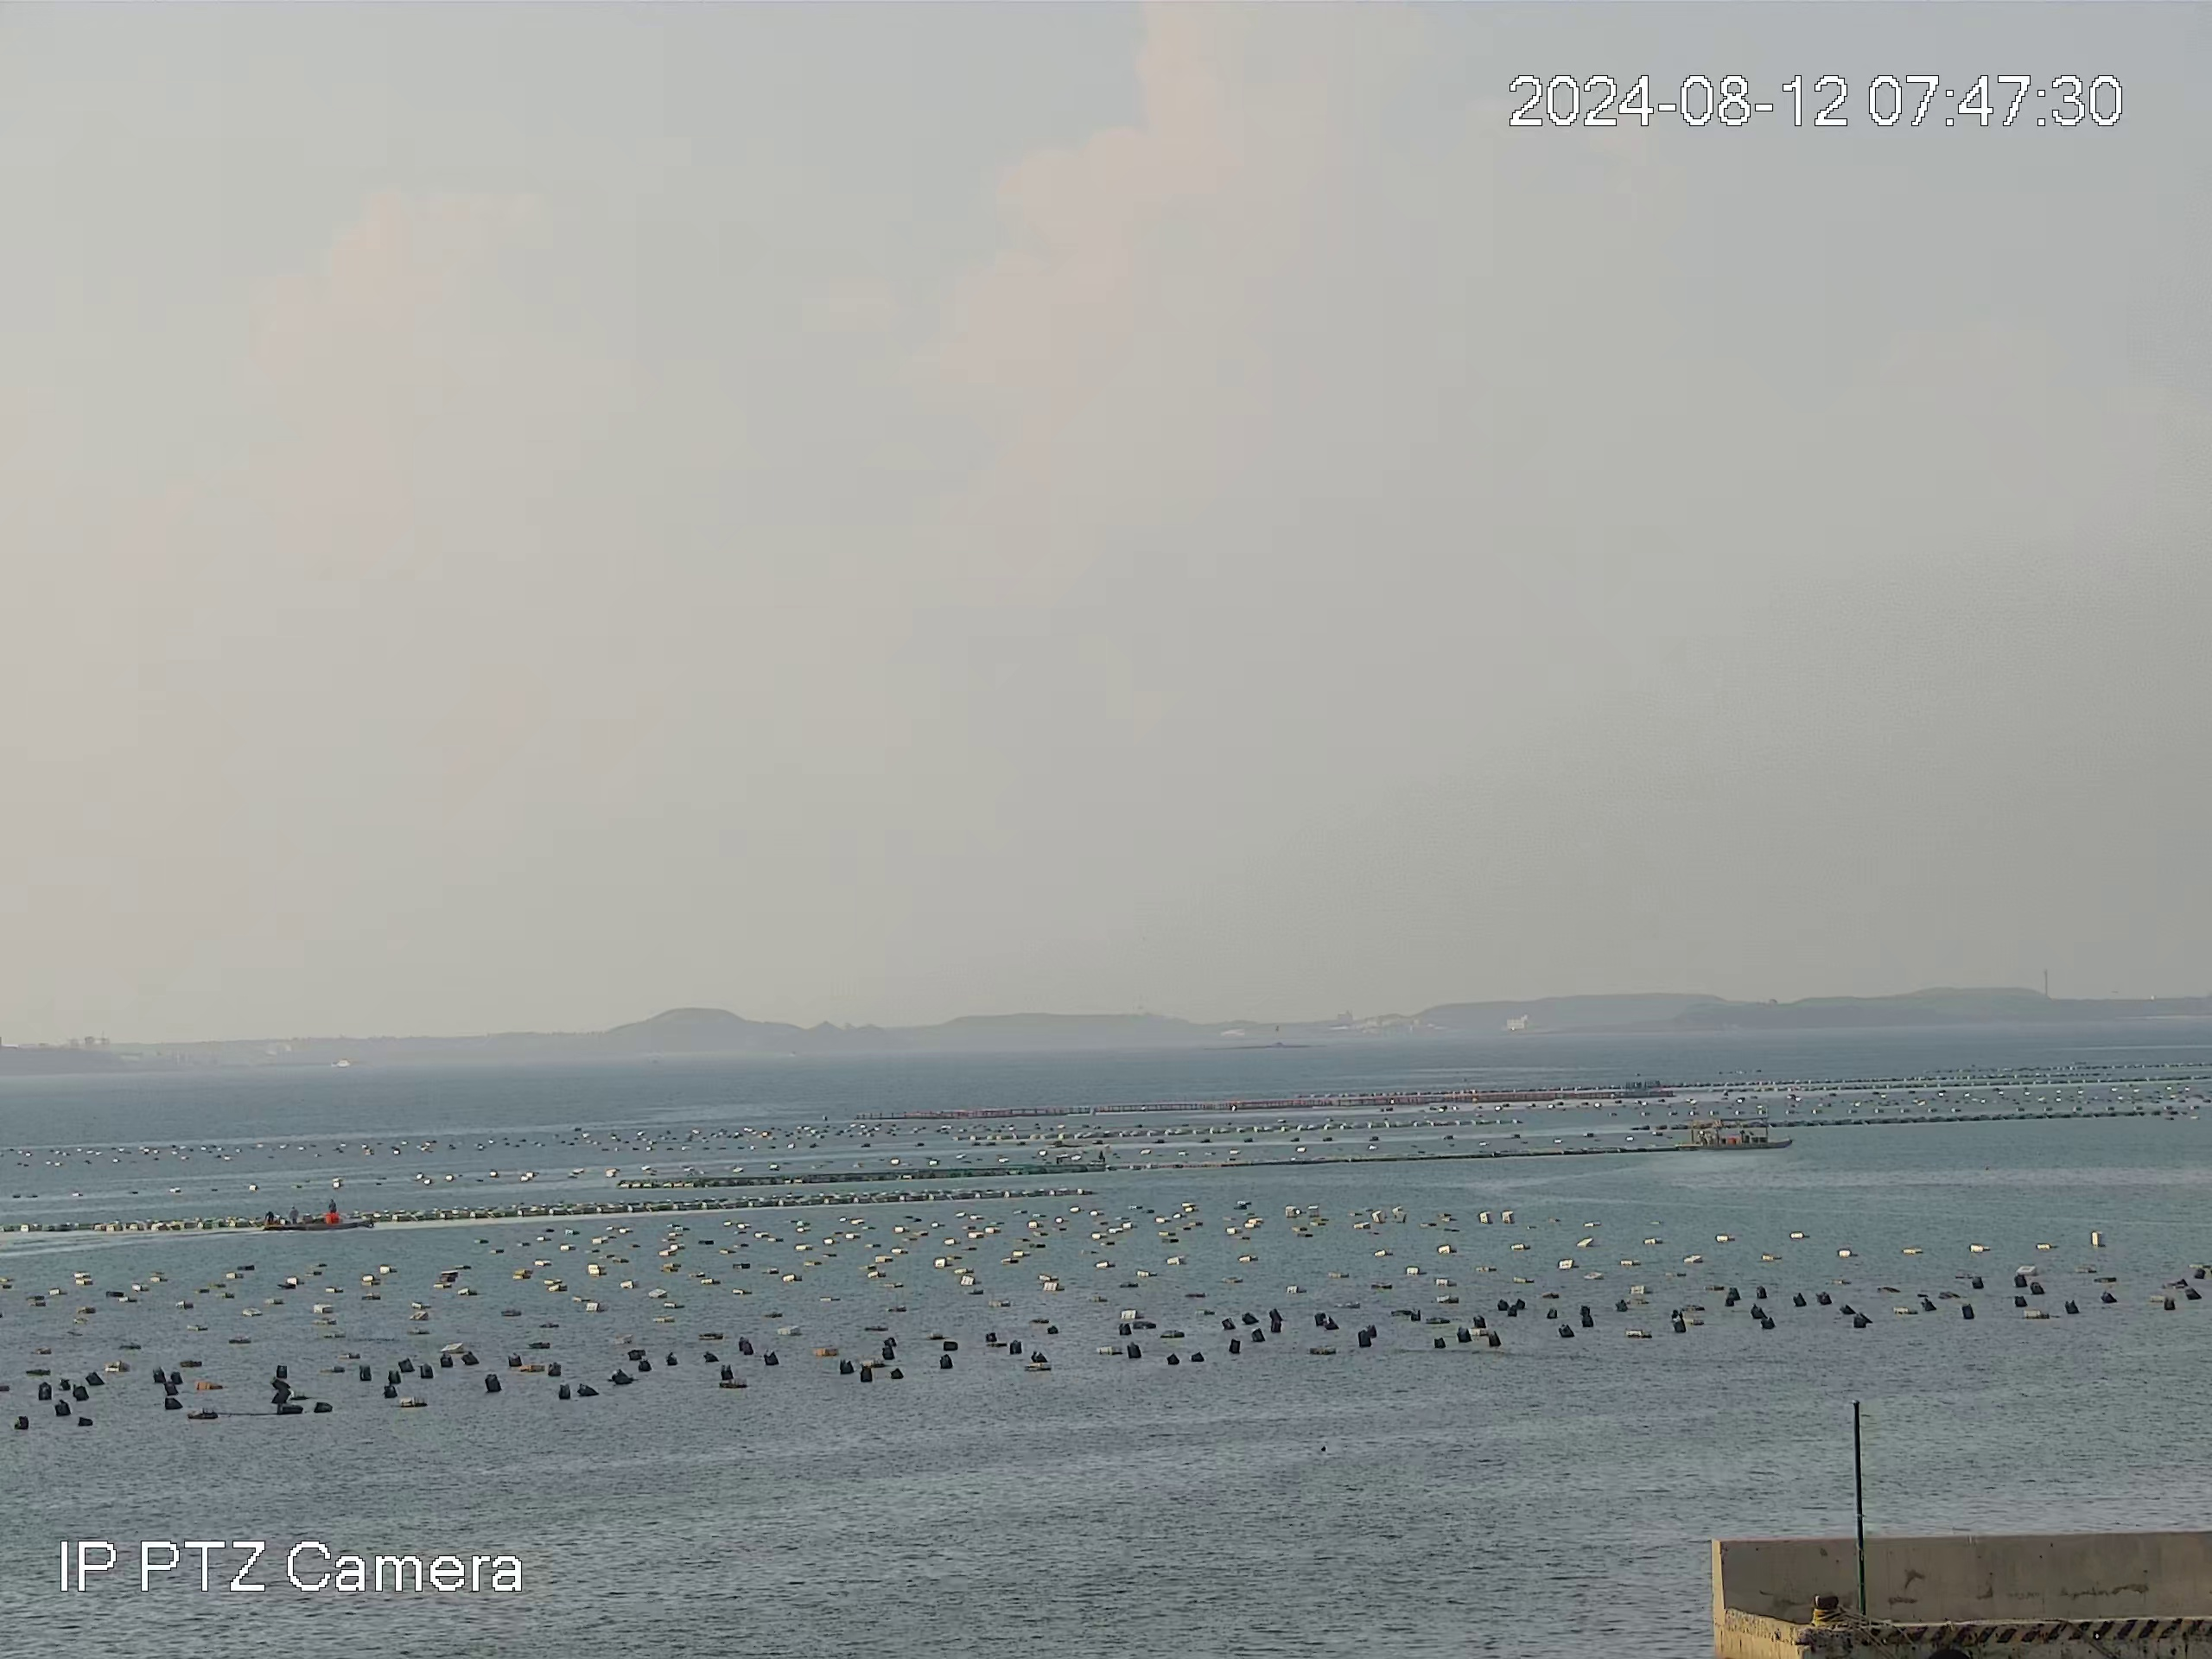boat: (261, 1199, 373, 1230), (1689, 1115, 1773, 1152)
